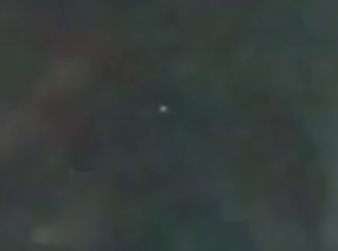Target: (161, 107, 166, 112)
